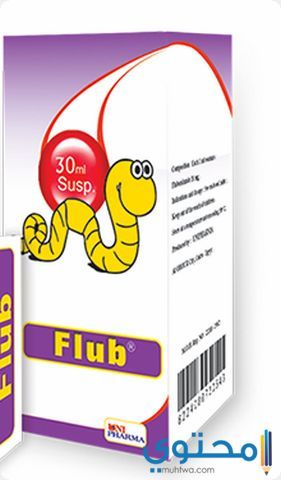Medicine: (3, 33, 249, 454)
